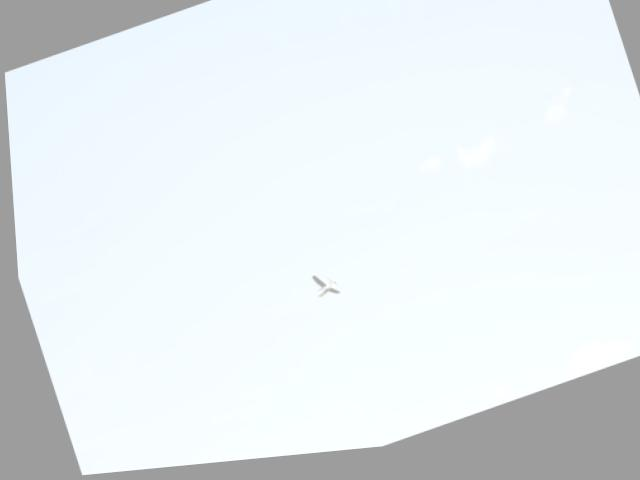plane: (304, 271, 338, 308)
